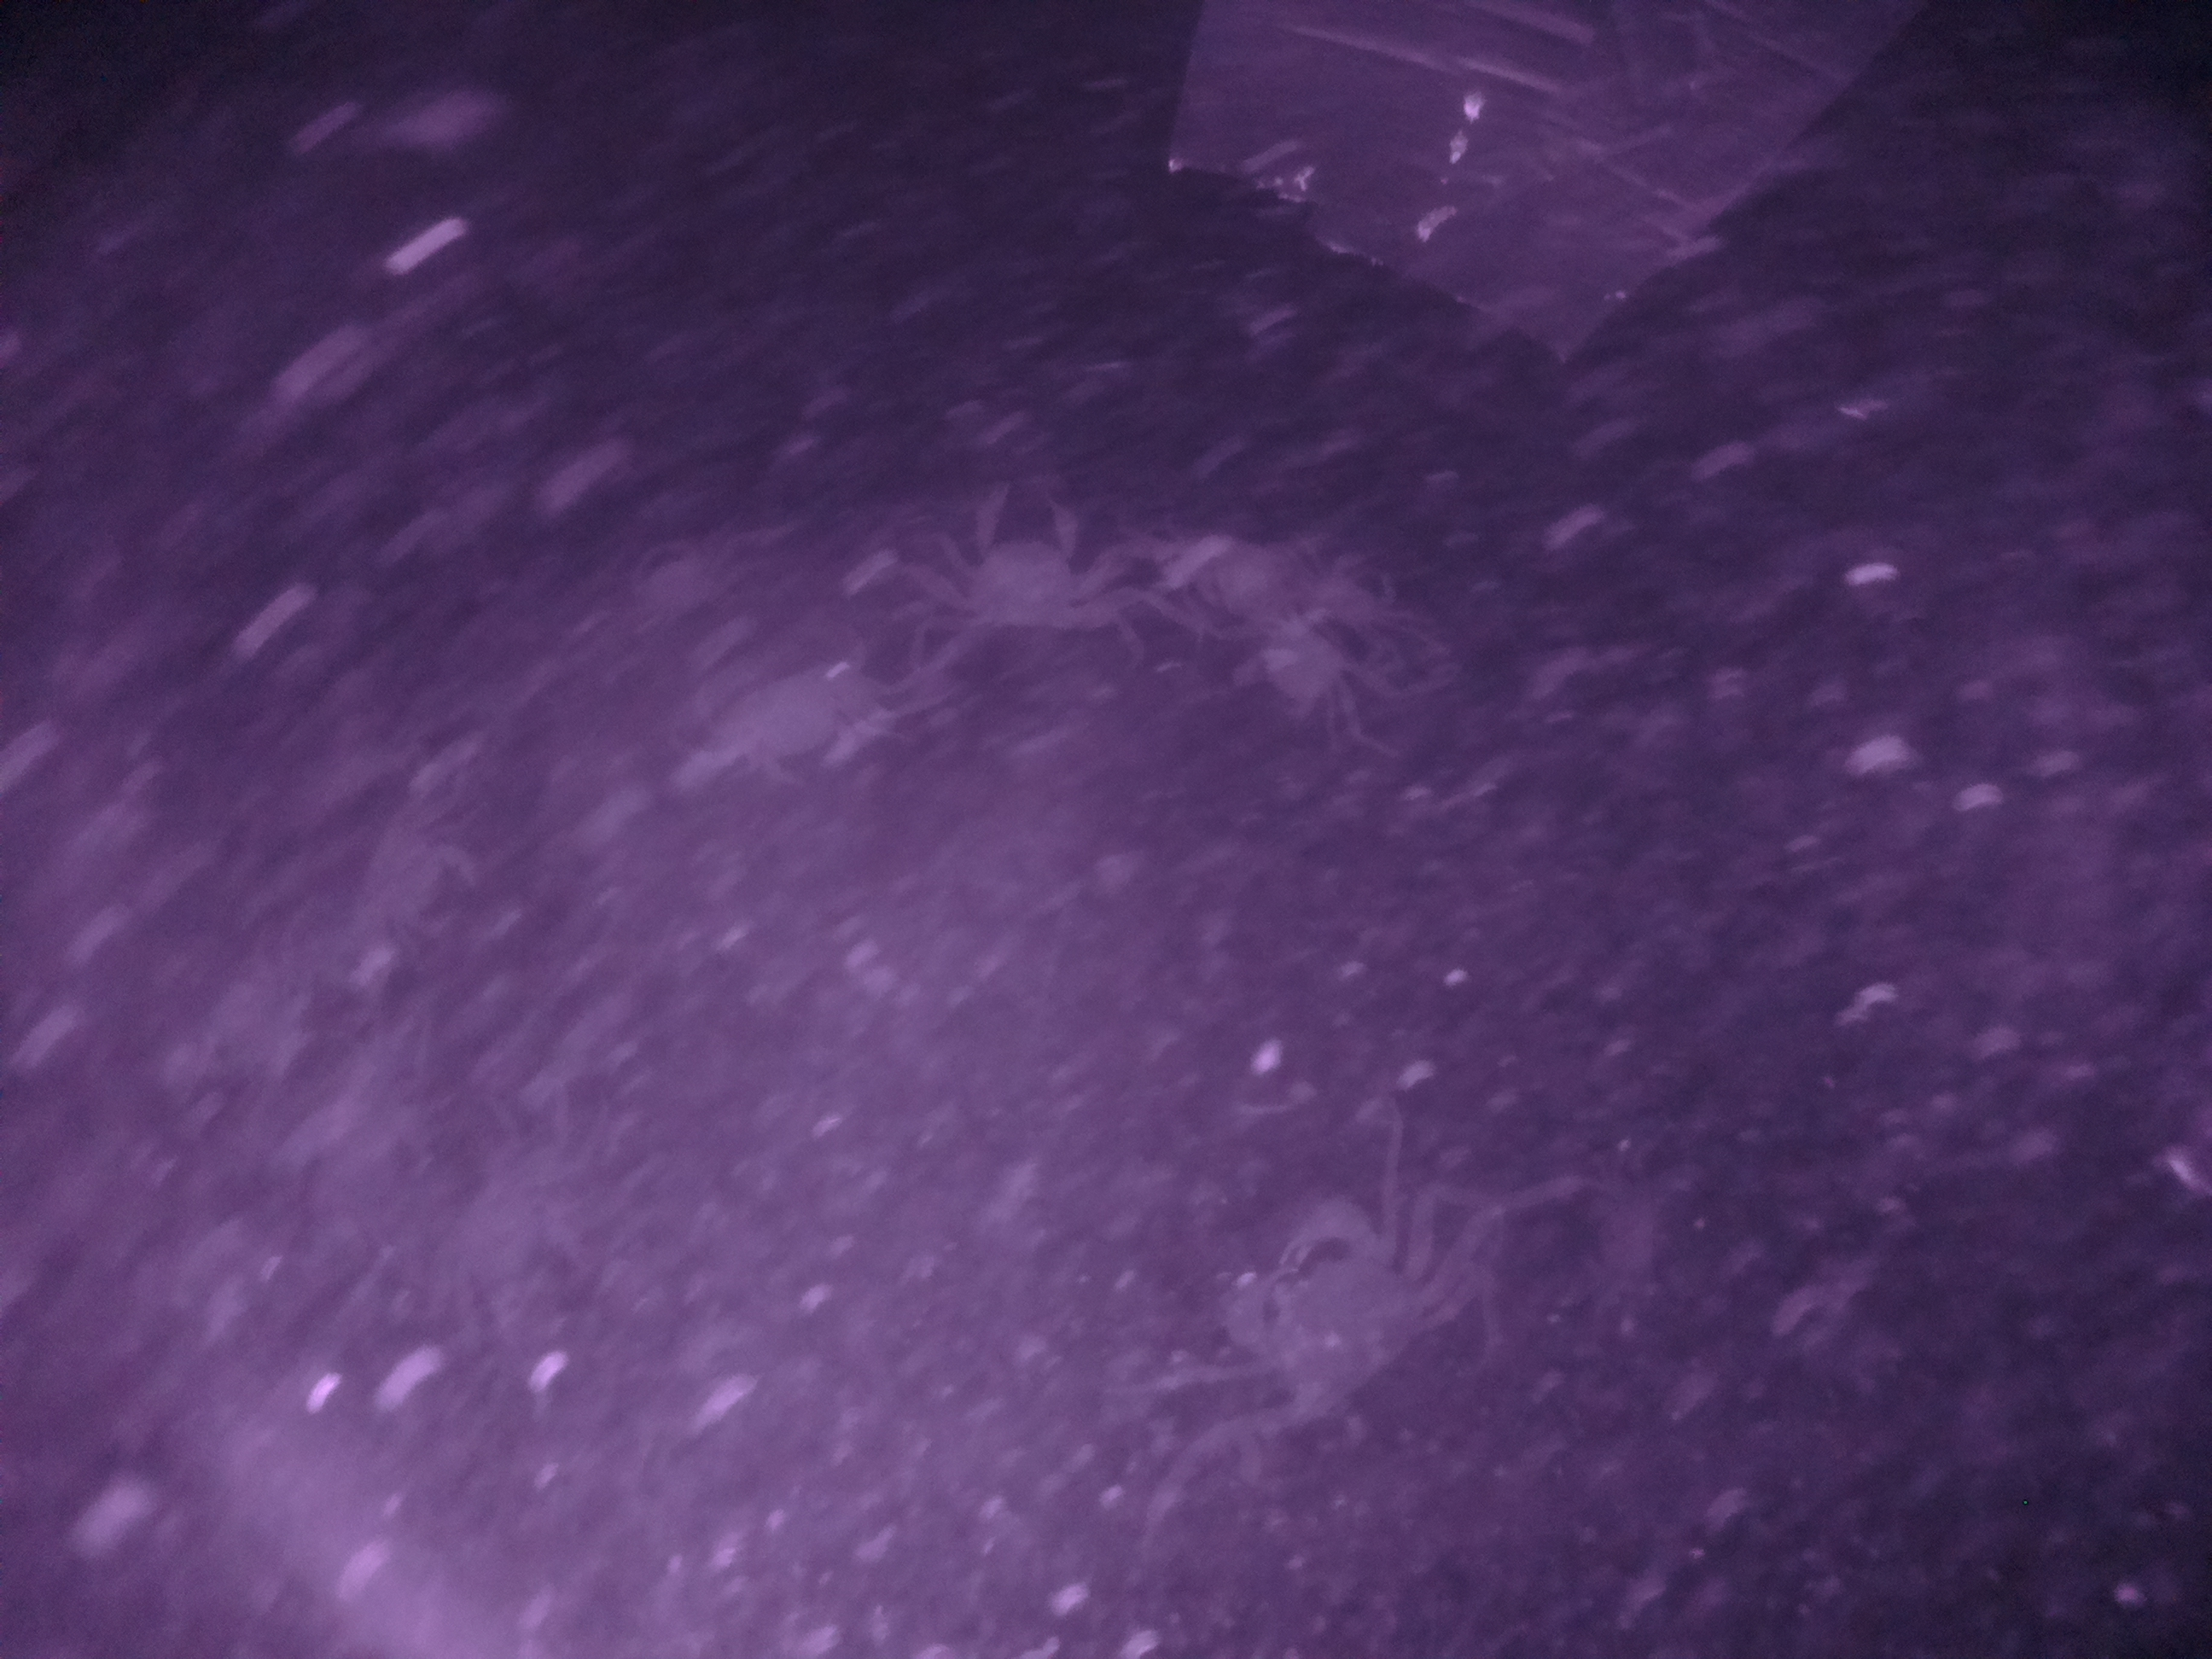Crab: (1167, 1182, 1480, 1455), (916, 455, 1111, 647)
